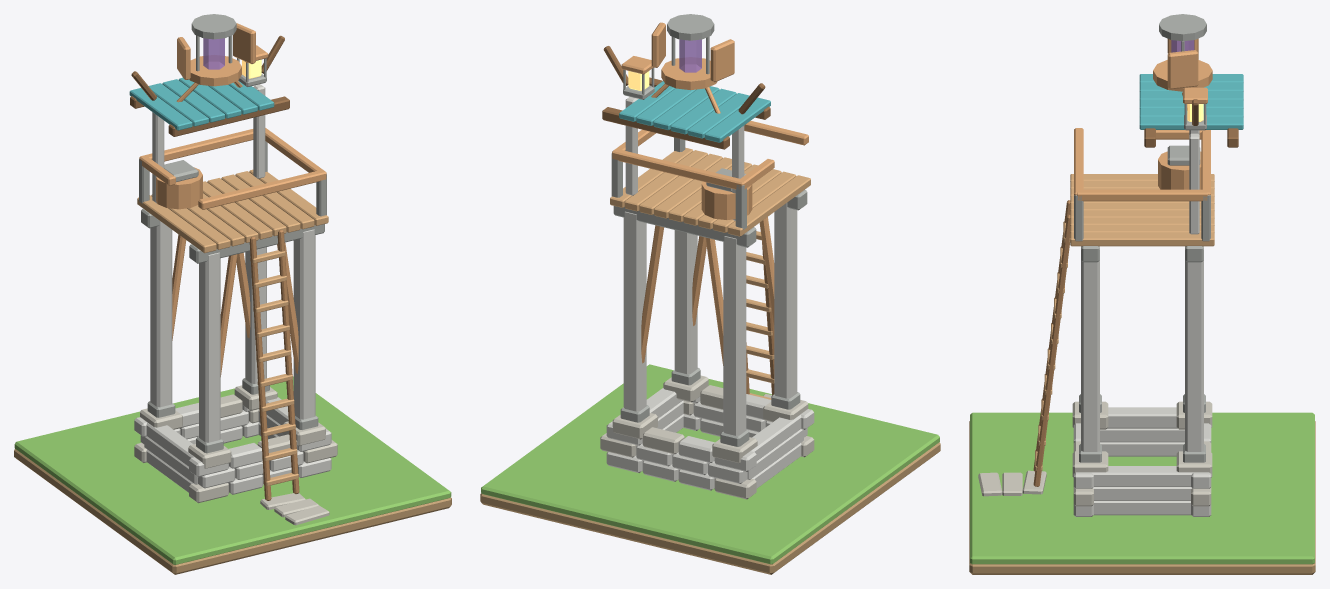
File: tower_l06_active_LOD0.glb
The picture shows the model from 3 angles, left to right: view 1: azimuth 30°, elevation 25°; view 2: azimuth 150°, elevation 25°; view 3: azimuth 270°, elevation 25°; orthographic projection. The views are drawn at different scales.
Parts seen in each view (by area): view 1: tower_l06_grass_tile, tower_l06_earth_tile, post_-0.61_0.54, post_-0.61_-0.54, post_0.61_-0.54, ladder_rail_-0.18, post_0.61_0.54, ladder_rail_0.18, balcony_rail_-0.66, relay_drum, deck_board_0, deck_bearer_-0.54 (+32 smaller); view 2: tower_l06_grass_tile, tower_l06_earth_tile, post_-0.61_0.54, post_-0.61_-0.54, post_0.61_0.54, post_0.61_-0.54, balcony_rail_0.66, deck_bearer_0.54, deck_board_0, relay_drum, brace_0.61_0.54, beacon_crown (+34 smaller); view 3: tower_l06_grass_tile, tower_l06_earth_tile, post_0.61_0.54, post_0.61_-0.54, deck_board_8, stone_return_2_0.72, ladder_rail_0.18, balcony_side_rail, stone_return_2_-0.72, stone_return_0_0.72, stone_return_1_0.72, stone_return_1_-0.72 (+26 smaller).
Boxes of the visible parts, x1=… form: tower_l06_grass_tile: x1=14, y1=376, x2=451, y2=564; tower_l06_earth_tile: x1=14, y1=449, x2=451, y2=574; post_-0.61_0.54: x1=150, y1=221, x2=172, y2=407; post_-0.61_-0.54: x1=199, y1=252, x2=220, y2=442; post_0.61_-0.54: x1=293, y1=229, x2=315, y2=419; ladder_rail_-0.18: x1=249, y1=236, x2=271, y2=500; post_0.61_0.54: x1=245, y1=247, x2=266, y2=383; ladder_rail_0.18: x1=277, y1=229, x2=299, y2=493; balcony_rail_-0.66: x1=198, y1=170, x2=326, y2=209; relay_drum: x1=156, y1=167, x2=202, y2=209; deck_board_0: x1=137, y1=195, x2=216, y2=253; deck_bearer_-0.54: x1=189, y1=224, x2=324, y2=263; tower_l06_grass_tile: x1=481, y1=364, x2=939, y2=564; tower_l06_earth_tile: x1=480, y1=442, x2=940, y2=574; post_-0.61_0.54: x1=723, y1=236, x2=746, y2=435; post_-0.61_-0.54: x1=774, y1=203, x2=797, y2=398; post_0.61_0.54: x1=623, y1=211, x2=646, y2=411; post_0.61_-0.54: x1=674, y1=230, x2=697, y2=374; balcony_rail_0.66: x1=612, y1=150, x2=744, y2=189; deck_bearer_0.54: x1=613, y1=206, x2=756, y2=247; deck_board_0: x1=727, y1=175, x2=810, y2=236; relay_drum: x1=701, y1=181, x2=752, y2=219; brace_0.61_0.54: x1=641, y1=225, x2=663, y2=363; beacon_crown: x1=661, y1=58, x2=717, y2=90; tower_l06_grass_tile: x1=970, y1=412, x2=1314, y2=564; tower_l06_earth_tile: x1=969, y1=421, x2=1315, y2=574; post_0.61_0.54: x1=1185, y1=246, x2=1203, y2=451; post_0.61_-0.54: x1=1081, y1=246, x2=1099, y2=451; deck_board_8: x1=1070, y1=232, x2=1214, y2=246; stone_return_2_0.72: x1=1091, y1=466, x2=1193, y2=486; ladder_rail_0.18: x1=1033, y1=215, x2=1070, y2=486; balcony_side_rail: x1=1077, y1=189, x2=1207, y2=201; stone_return_2_-0.72: x1=1107, y1=407, x2=1177, y2=428; stone_return_0_0.72: x1=1094, y1=501, x2=1190, y2=515; stone_return_1_0.72: x1=1093, y1=487, x2=1191, y2=500; stone_return_1_-0.72: x1=1100, y1=428, x2=1184, y2=442.
Size of the model in its own units: 3.6 by 5.49 by 3.6.
